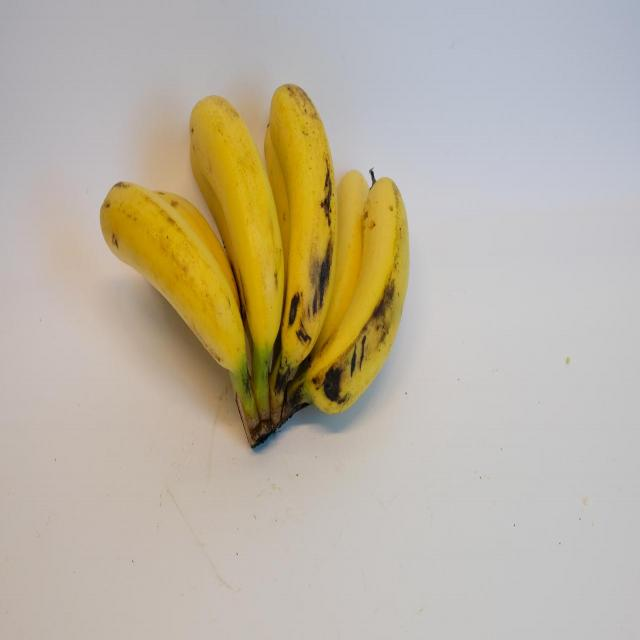banana: (101, 180, 244, 392), (319, 172, 427, 425), (191, 86, 286, 356), (282, 81, 338, 363)
